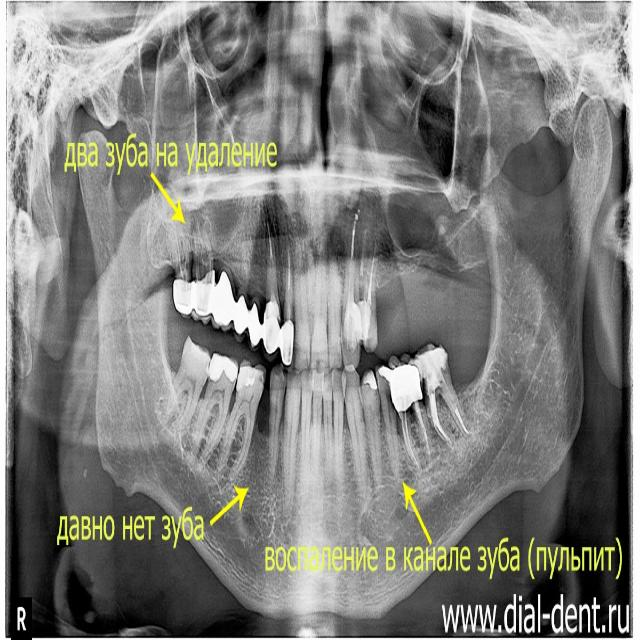Caries: (376, 366, 402, 473)
